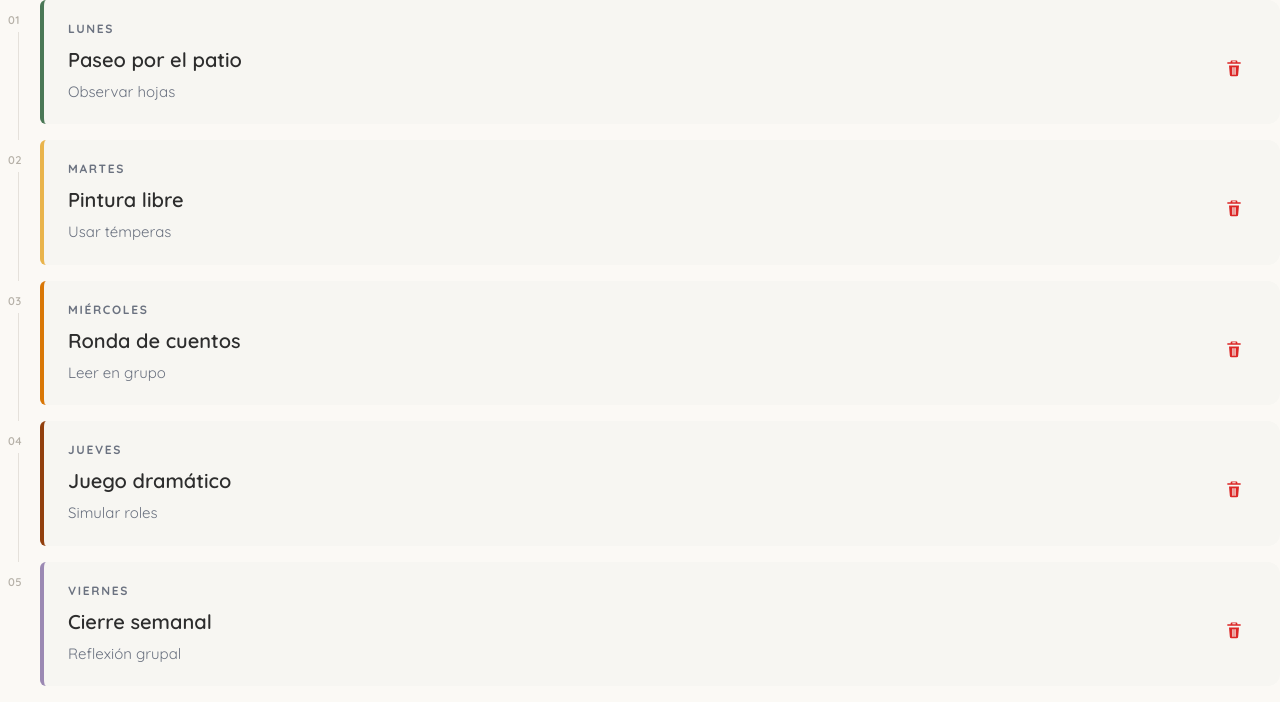
ActividadesTab - eliminar actividad › cancelar cierra el diálogo y no borra
Click the button named "Eliminar actividad: Paseo por el patio": (1234, 68) [1212,46,1256,90]
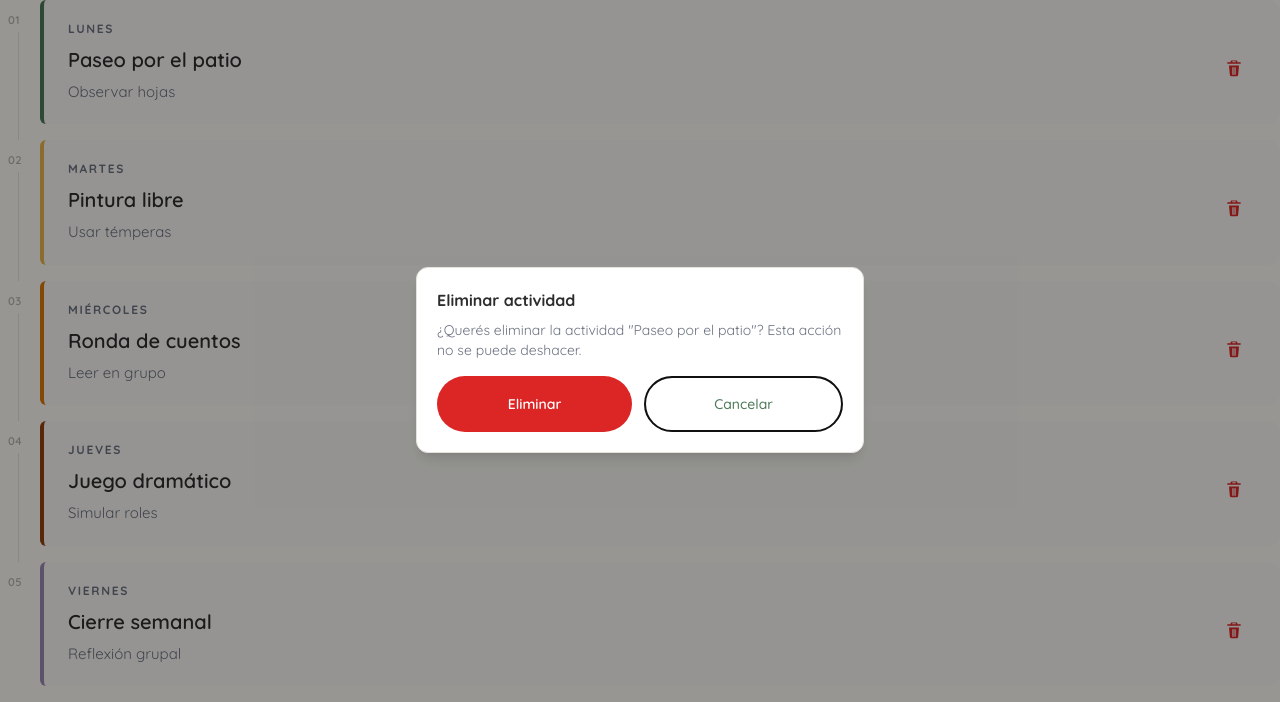
Click the button "Cancelar": (744, 404) [644,376,843,432]
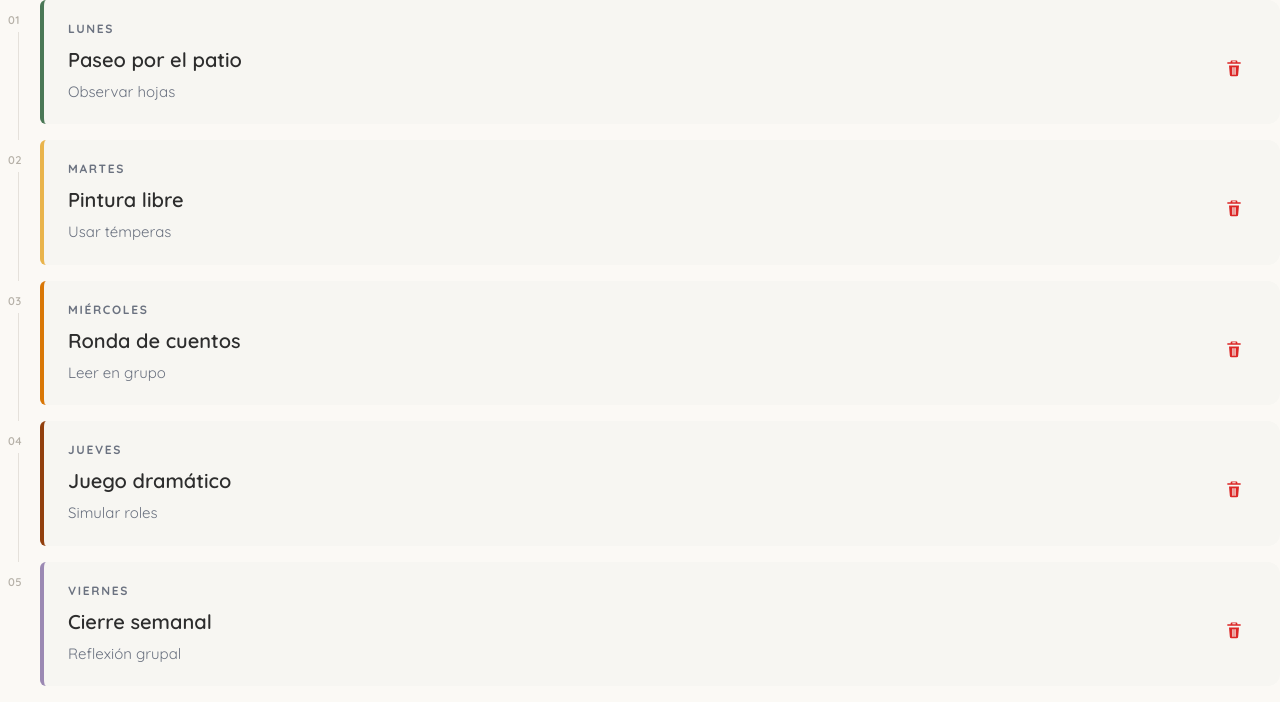
Check: the dialog is gone
